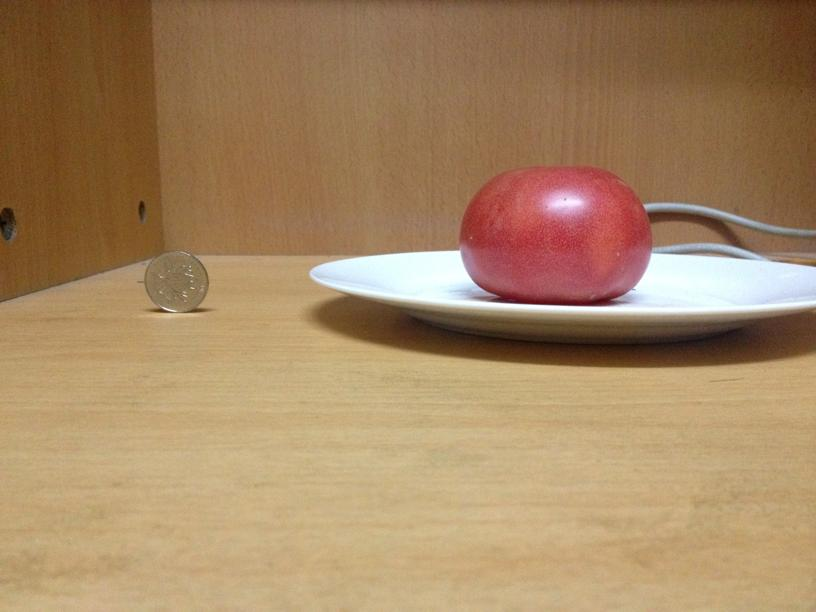coin: (147, 247, 212, 314)
tomato: (455, 166, 656, 300)
